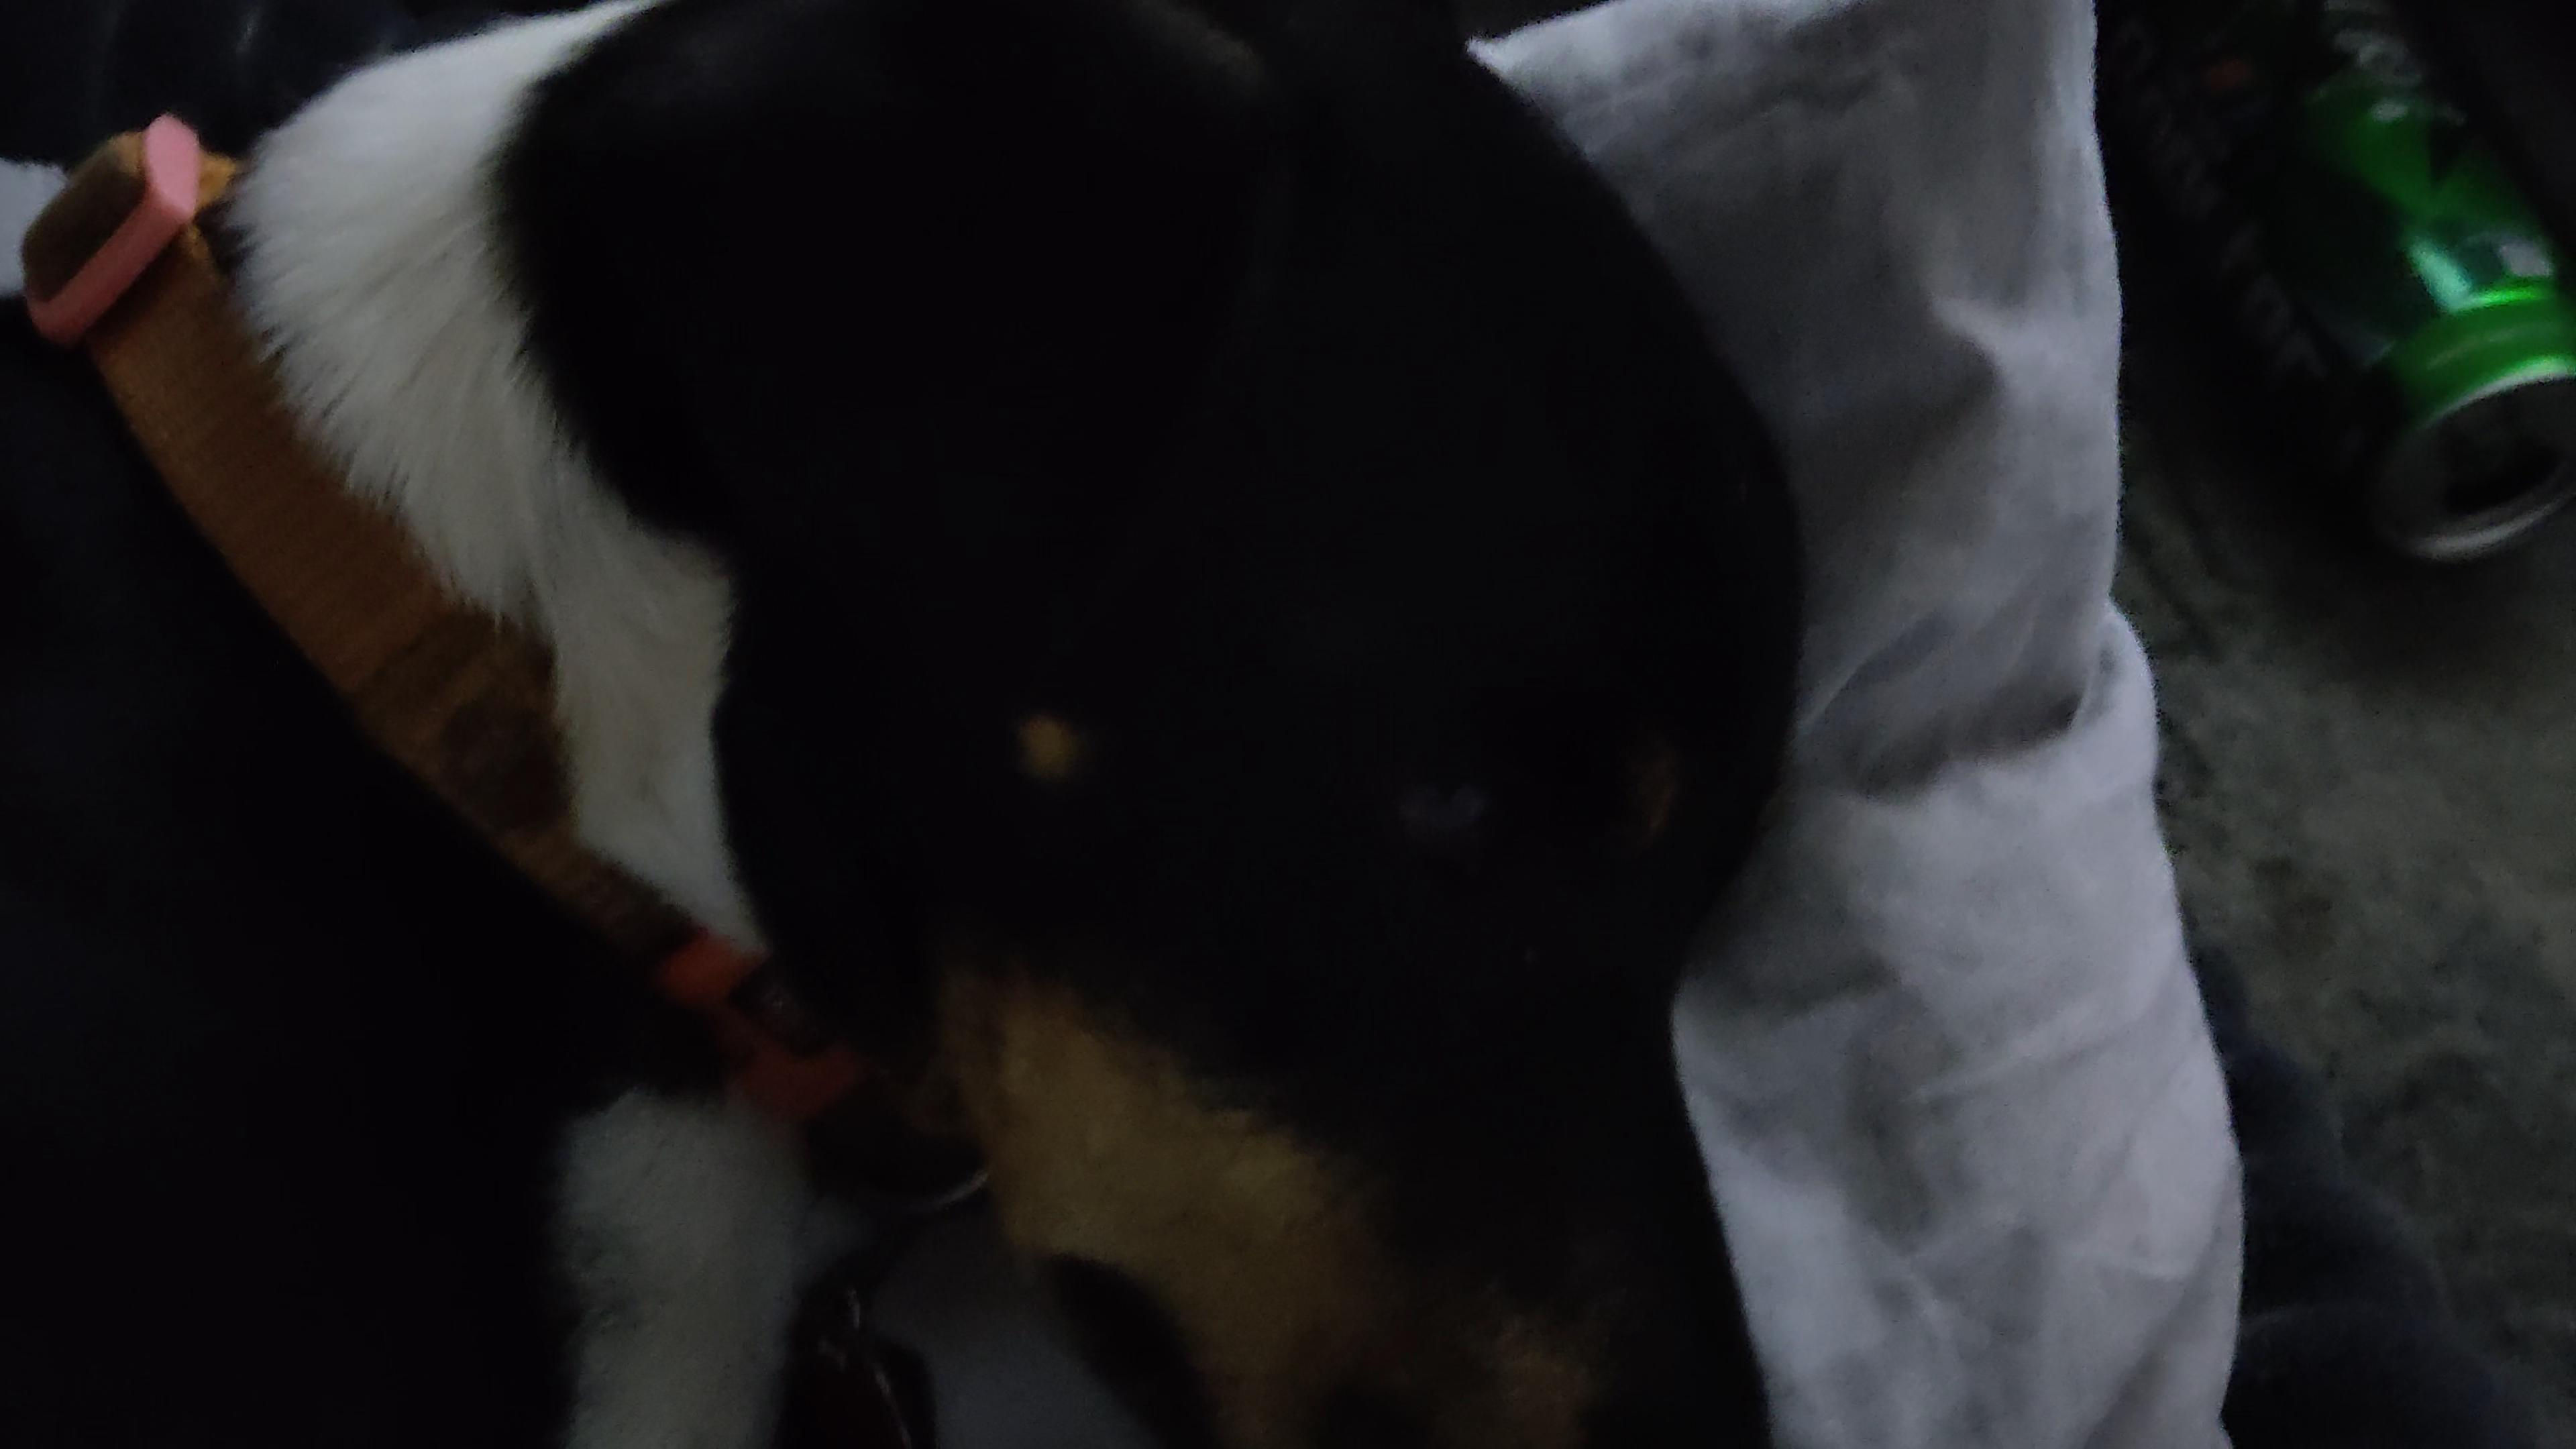Dog: (0, 0, 1833, 1449)
